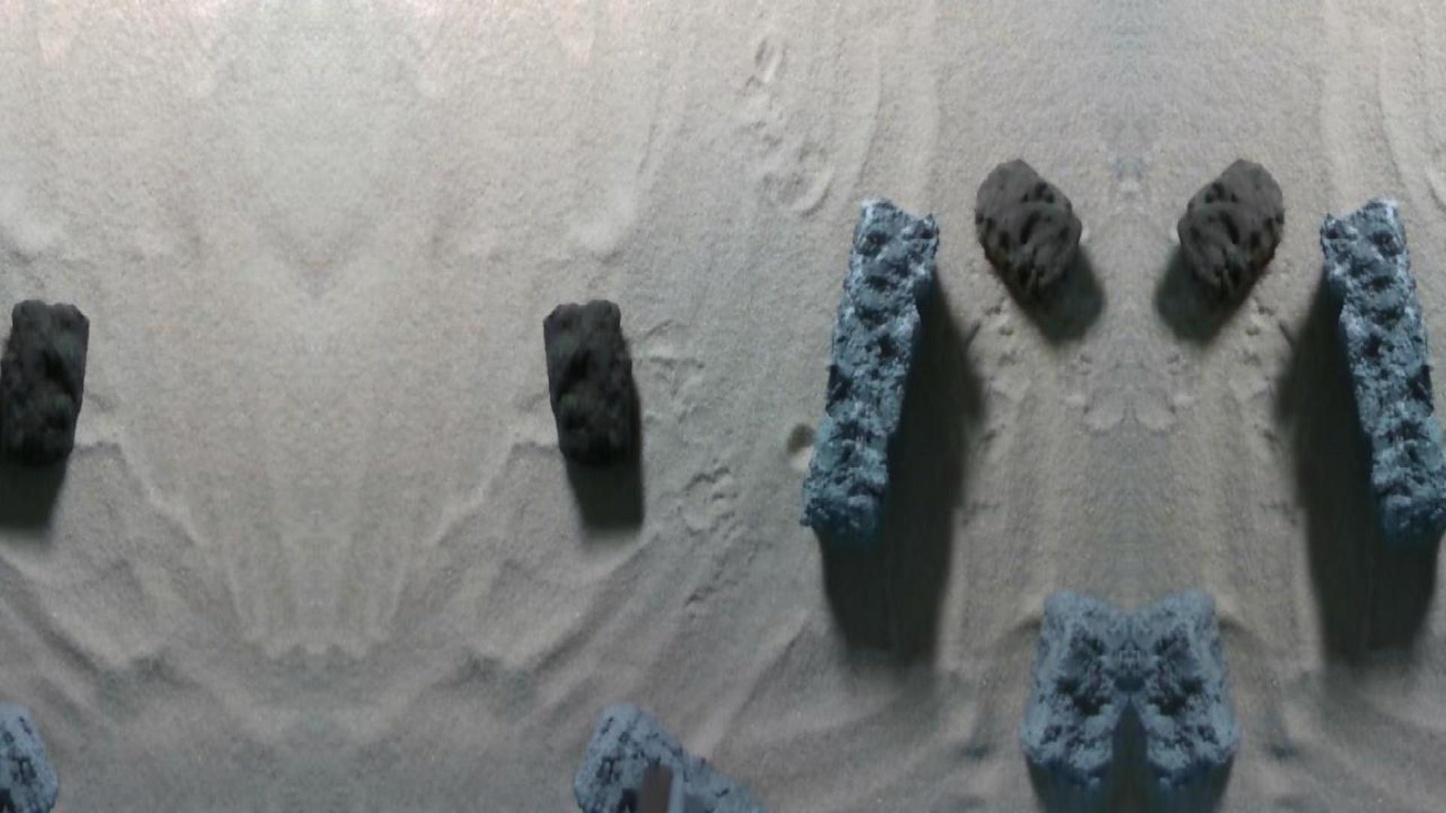rock: (802, 199, 938, 549), (1021, 591, 1238, 808), (1321, 198, 1445, 548), (574, 705, 765, 812), (543, 300, 639, 464), (1177, 159, 1283, 297), (975, 159, 1081, 296), (0, 299, 88, 464), (0, 705, 58, 812)
